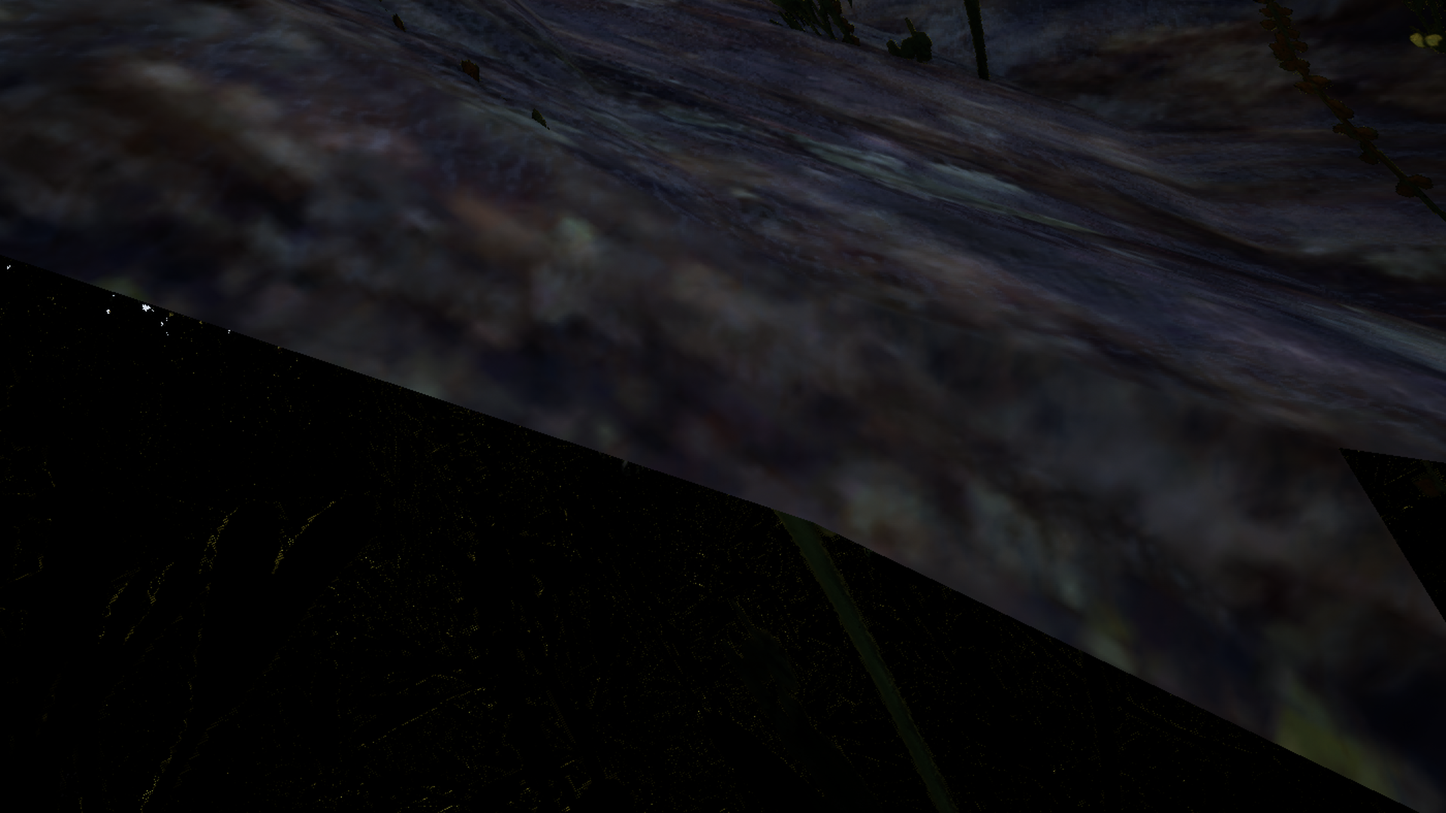Piplup: (242, 0, 1134, 813)
